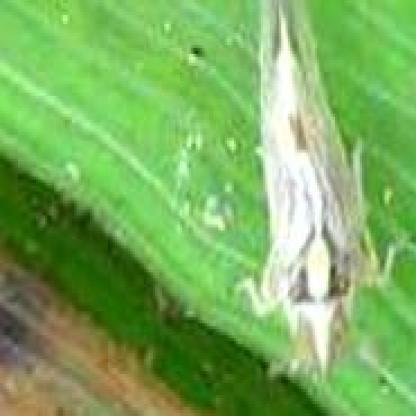brown-planthopper: (235, 0, 382, 376)
